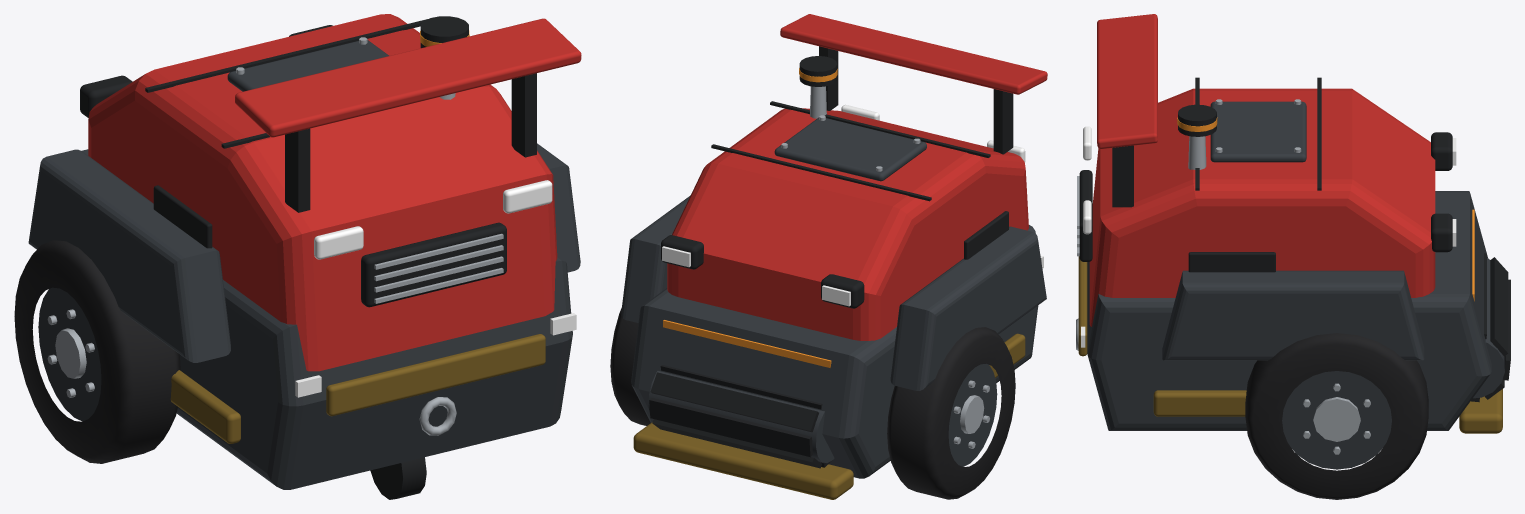
The model's file is Machine_racer_T1.glb.
3 views of the same model, side by side, from view 1: azimuth 30°, elevation 25°; view 2: azimuth 150°, elevation 25°; view 3: azimuth 270°, elevation 25° (orthographic). The views are drawn at different scales.
Visible parts, largest first — view 1: Tier1_Parts_MAT_Player_Shell_9, Tier1_Parts_MAT_Player_Gunmetal_8, Axle_Front_MAT_tread_5, Tier1_Parts_MAT_darkTrim_10, Tier1_Parts_MAT_Player_Hazard_12, Axle_Front_MAT_Player_Gunmetal_6, Tier1_Parts_MAT_steel_11, Tier1_Parts_MAT_lamps_13, Axle_Front_MAT_steel_7, Lidar_Puck_3; view 2: Tier1_Parts_MAT_Player_Shell_9, Tier1_Parts_MAT_Player_Gunmetal_8, Axle_Front_MAT_tread_5, Intake_Roller_MAT_darkTrim_1, Tier1_Parts_MAT_Player_Hazard_12, Tier1_Parts_MAT_darkTrim_10, Axle_Front_MAT_Player_Gunmetal_6, Roller_Core_0, Tier1_Parts_MAT_lamps_13, Intake_GlowStrip_2, Axle_Front_MAT_steel_7, Lidar_Puck_3 (+1 smaller); view 3: Tier1_Parts_MAT_Player_Shell_9, Tier1_Parts_MAT_Player_Gunmetal_8, Axle_Front_MAT_tread_5, Axle_Front_MAT_Player_Gunmetal_6, Tier1_Parts_MAT_darkTrim_10, Tier1_Parts_MAT_Player_Hazard_12, Intake_Roller_MAT_darkTrim_1, Axle_Front_MAT_steel_7, Roller_Core_0, Tier1_Parts_MAT_steel_11, Tier1_Parts_MAT_lamps_13, Lidar_Puck_3.
Part boxes in pixels (box(x1,y1,x2,y2)): Tier1_Parts_MAT_Player_Shell_9: box(88, 14, 581, 371); Tier1_Parts_MAT_Player_Gunmetal_8: box(28, 40, 580, 489); Axle_Front_MAT_tread_5: box(14, 240, 180, 463); Tier1_Parts_MAT_darkTrim_10: box(80, 19, 536, 499); Tier1_Parts_MAT_Player_Hazard_12: box(170, 334, 545, 443); Axle_Front_MAT_Player_Gunmetal_6: box(38, 287, 101, 421); Tier1_Parts_MAT_steel_11: box(236, 37, 503, 435); Tier1_Parts_MAT_lamps_13: box(295, 180, 576, 397); Axle_Front_MAT_steel_7: box(47, 309, 94, 397); Lidar_Puck_3: box(420, 16, 468, 47); Tier1_Parts_MAT_Player_Shell_9: box(667, 14, 1047, 340); Tier1_Parts_MAT_Player_Gunmetal_8: box(621, 117, 1046, 478); Axle_Front_MAT_tread_5: box(610, 308, 1015, 499); Intake_Roller_MAT_darkTrim_1: box(649, 365, 832, 468); Tier1_Parts_MAT_Player_Hazard_12: box(633, 333, 1025, 499); Tier1_Parts_MAT_darkTrim_10: box(661, 46, 1013, 308); Axle_Front_MAT_Player_Gunmetal_6: box(948, 363, 997, 466); Roller_Core_0: box(648, 371, 834, 463); Tier1_Parts_MAT_lamps_13: box(662, 104, 1043, 306); Intake_GlowStrip_2: box(663, 320, 831, 367); Axle_Front_MAT_steel_7: box(953, 380, 989, 448); Lidar_Puck_3: box(799, 56, 837, 86); Tier1_Parts_MAT_Player_Shell_9: box(1089, 14, 1435, 326); Tier1_Parts_MAT_Player_Gunmetal_8: box(1087, 101, 1491, 430); Axle_Front_MAT_tread_5: box(1245, 333, 1428, 499); Axle_Front_MAT_Player_Gunmetal_6: box(1282, 371, 1391, 469); Tier1_Parts_MAT_darkTrim_10: box(1079, 77, 1452, 272); Tier1_Parts_MAT_Player_Hazard_12: box(1078, 256, 1502, 433); Intake_Roller_MAT_darkTrim_1: box(1471, 253, 1510, 402); Axle_Front_MAT_steel_7: box(1303, 383, 1370, 454); Roller_Core_0: box(1473, 258, 1504, 398); Tier1_Parts_MAT_steel_11: box(1076, 99, 1301, 350); Tier1_Parts_MAT_lamps_13: box(1081, 126, 1456, 347); Lidar_Puck_3: box(1178, 104, 1216, 136).
Size of the model in its own units: 0.89 by 0.8798 by 0.9959.
